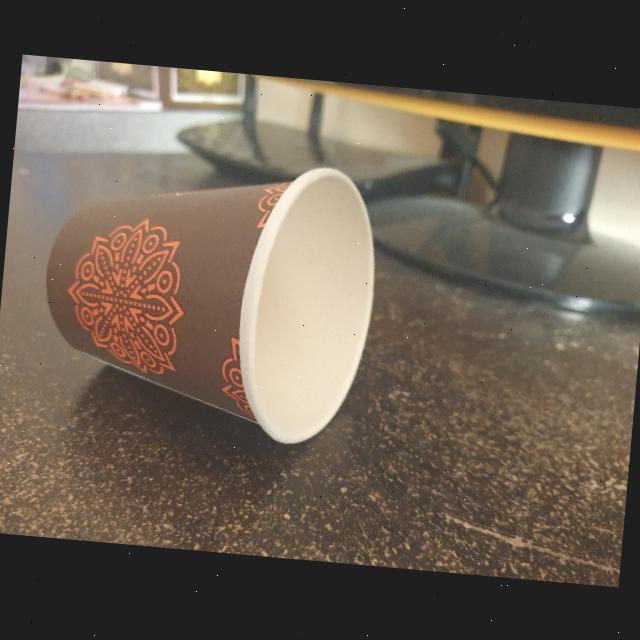trash: (26, 140, 387, 456)
